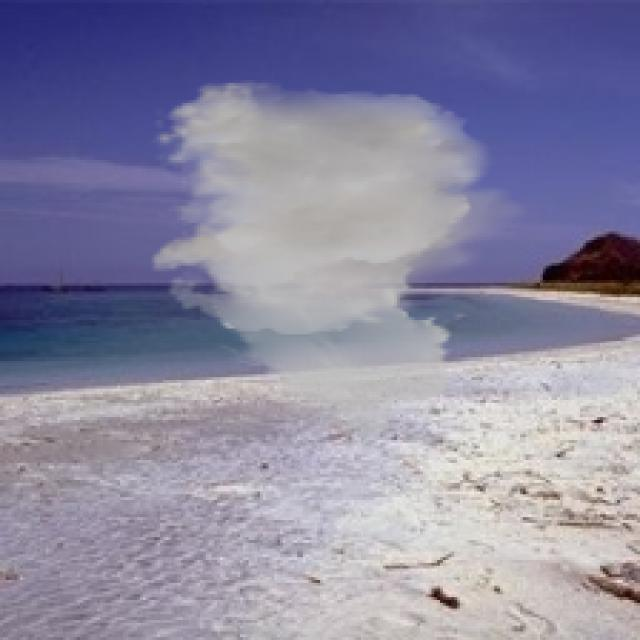Smoke: (148, 80, 534, 449)
